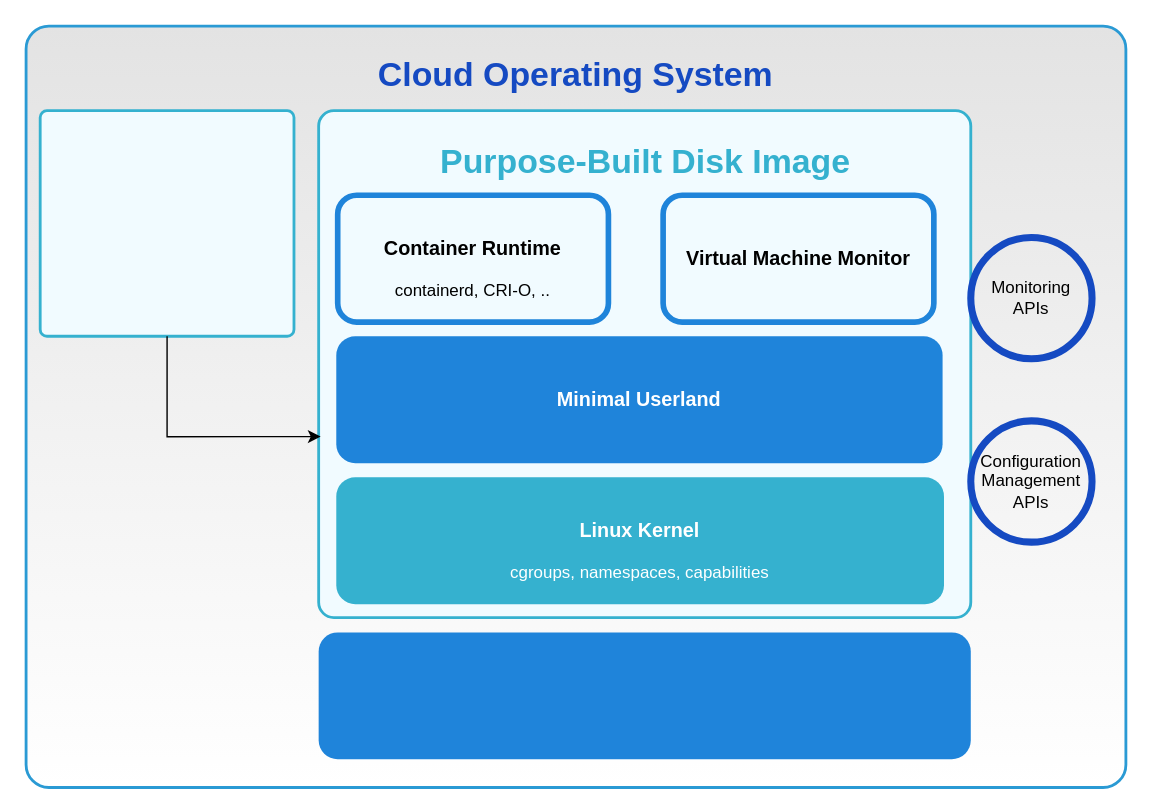
Image size: 1151x812. Some labels were removed from this diagram. The shapes that lost their labels are listed below. From the top down, each one's centre as x and y in pixels, then its label:
(x=166, y=223): Automated Image-Build Pipeline
(x=644, y=695): Hardware Bare metal or virtualized
